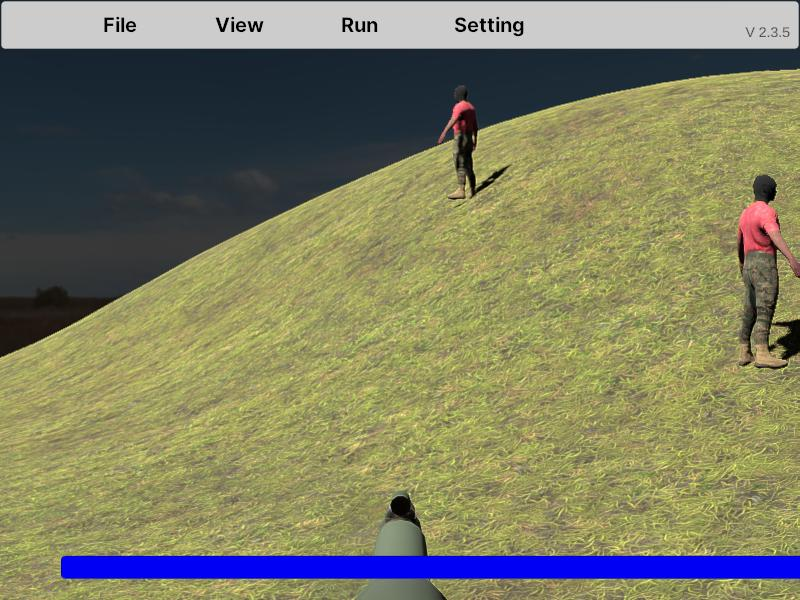Human: (737, 172, 798, 370), (439, 85, 478, 199)
